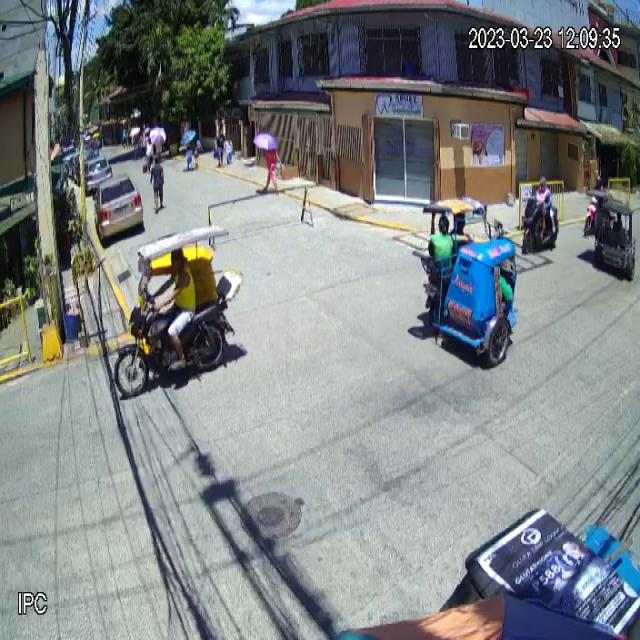Tricycle: (113, 223, 245, 399), (412, 195, 518, 367)
